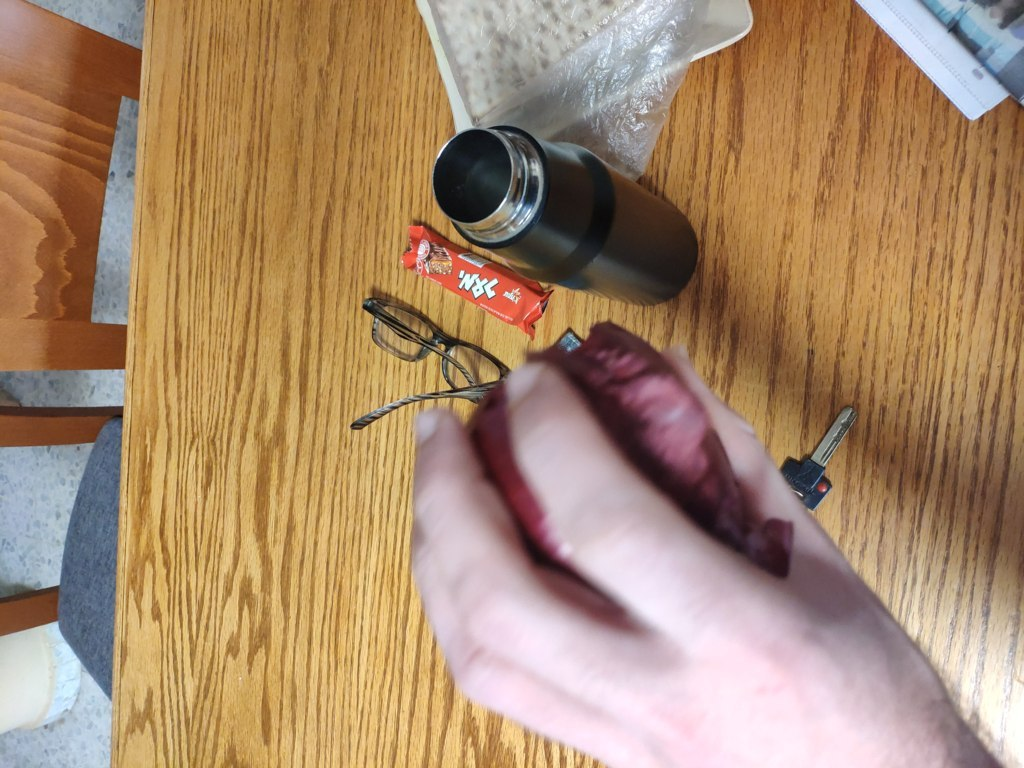Onion: (471, 360, 714, 587)
